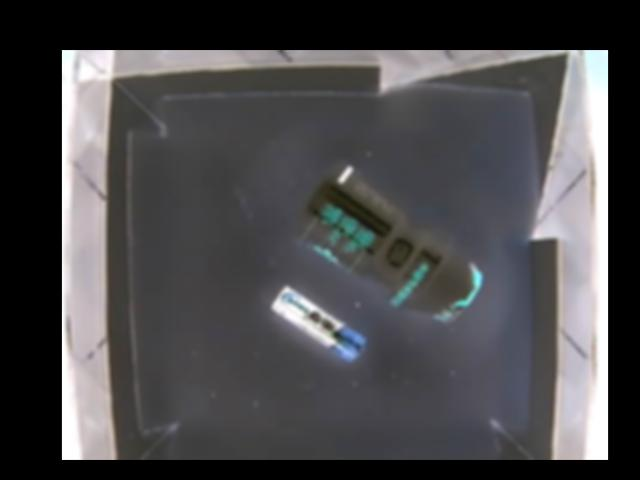Battery: (273, 285, 365, 359)
Bottle: (298, 160, 483, 324)
